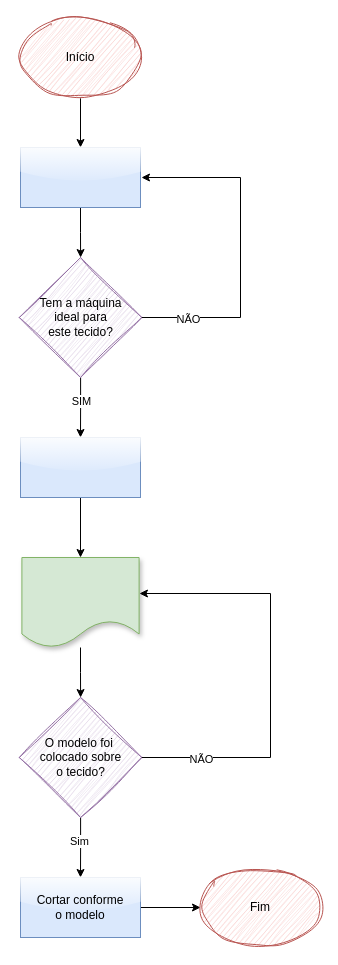
Image size: 338x965. Some labels were removed from this diagram. The centre of each missing label's shape, as x and y in pixels:
Analisar o tecido: pixel 80 177
Analisar qual o modelo para melhor desempenho: pixel 81 603
Estender o tecido sobre a mesa: pixel 80 467
